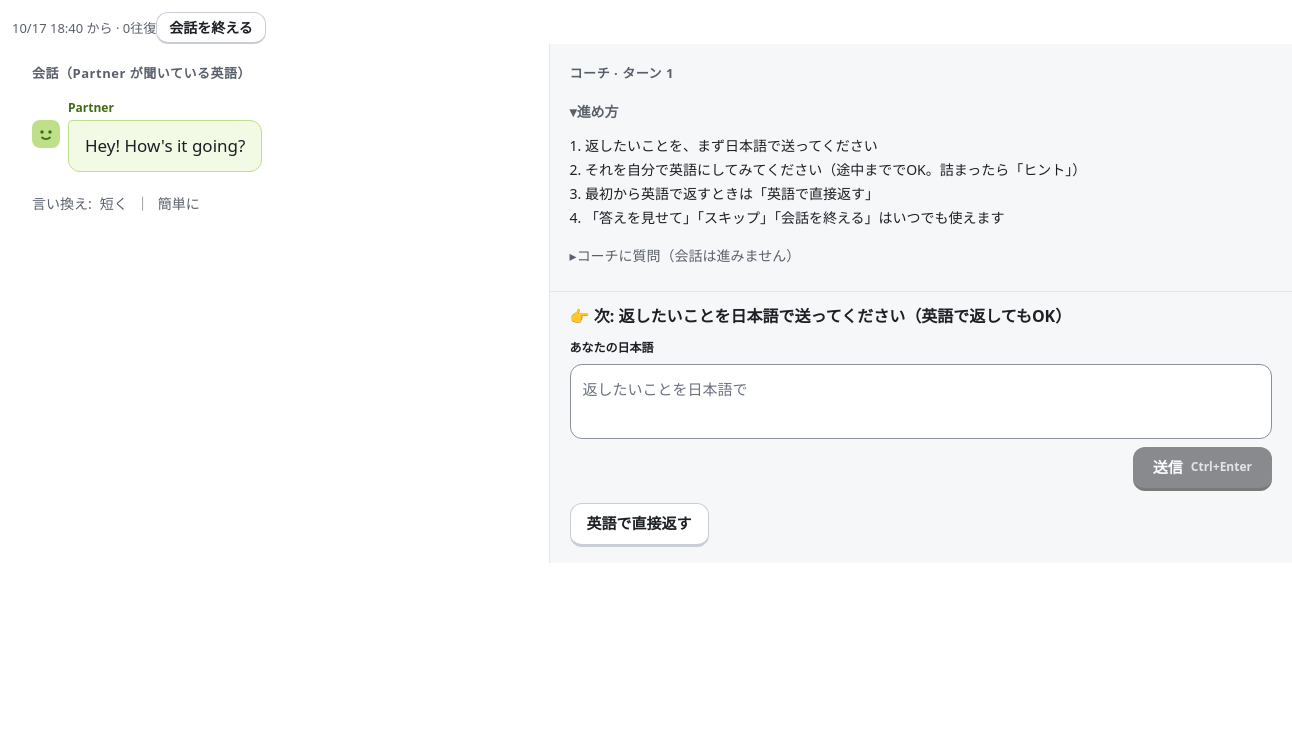
Test: ConversationScreen auto-sent actions (REQ-001) › collapses and expands the how-to
Click the button "▾ 進め方" at (594, 112), box [570,96,619,128]
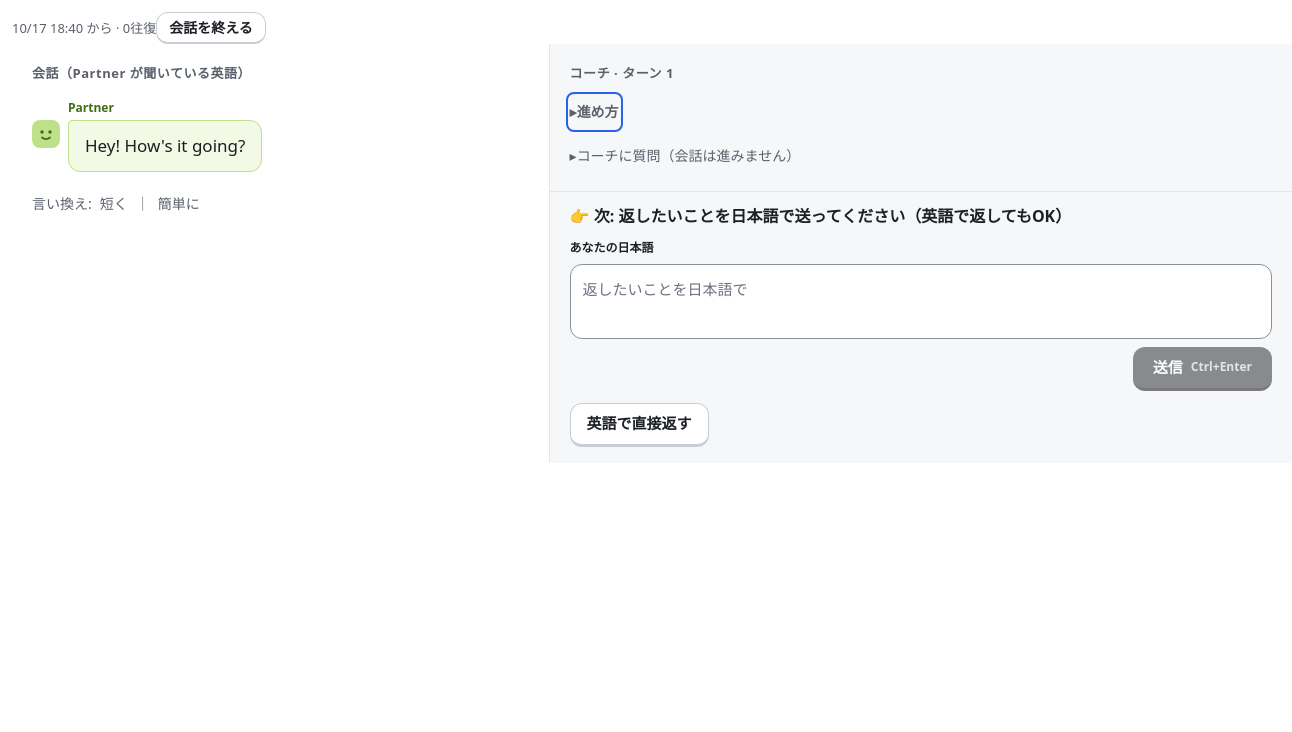
Check: the text "1. " is gone
Click the button "▸ 進め方" at (594, 112), box [570,96,619,128]
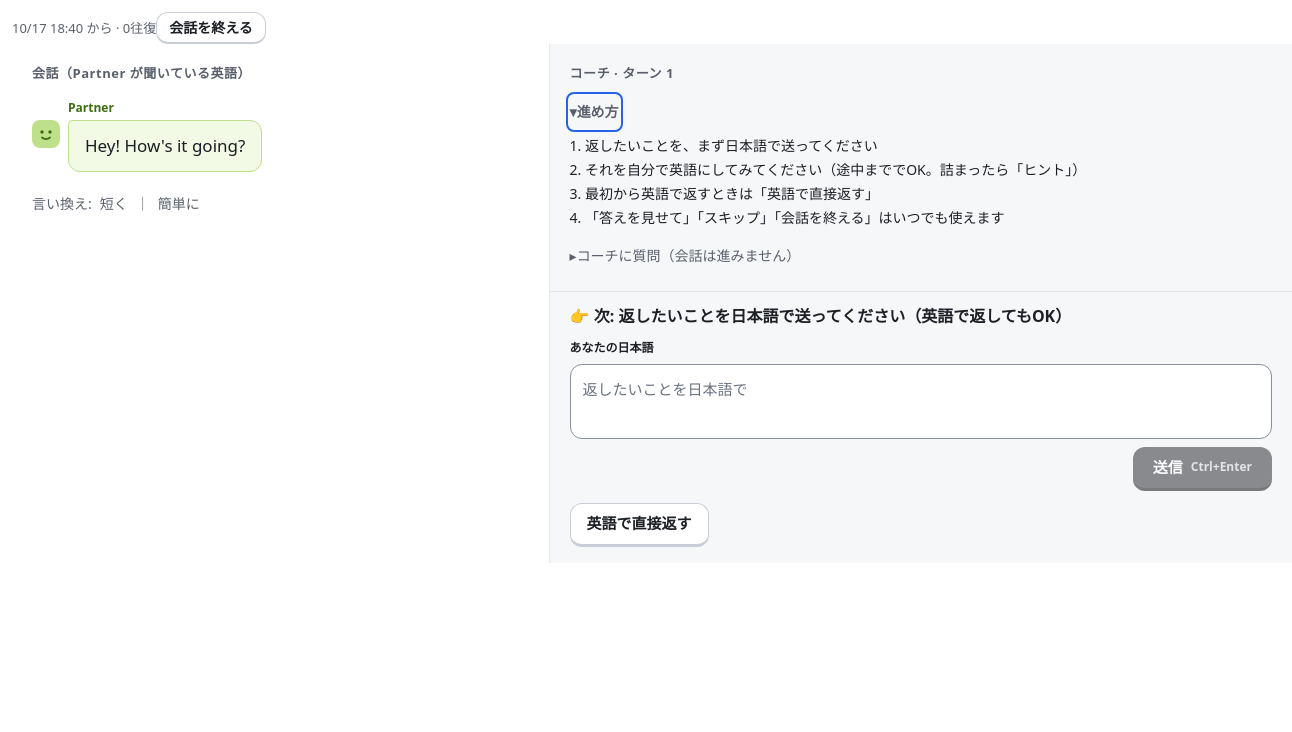
Check: the text "4. 「答えを見せて」「スキップ」「会話を終える」はいつでも使えます" is shown, box [570,208,1005,226]
